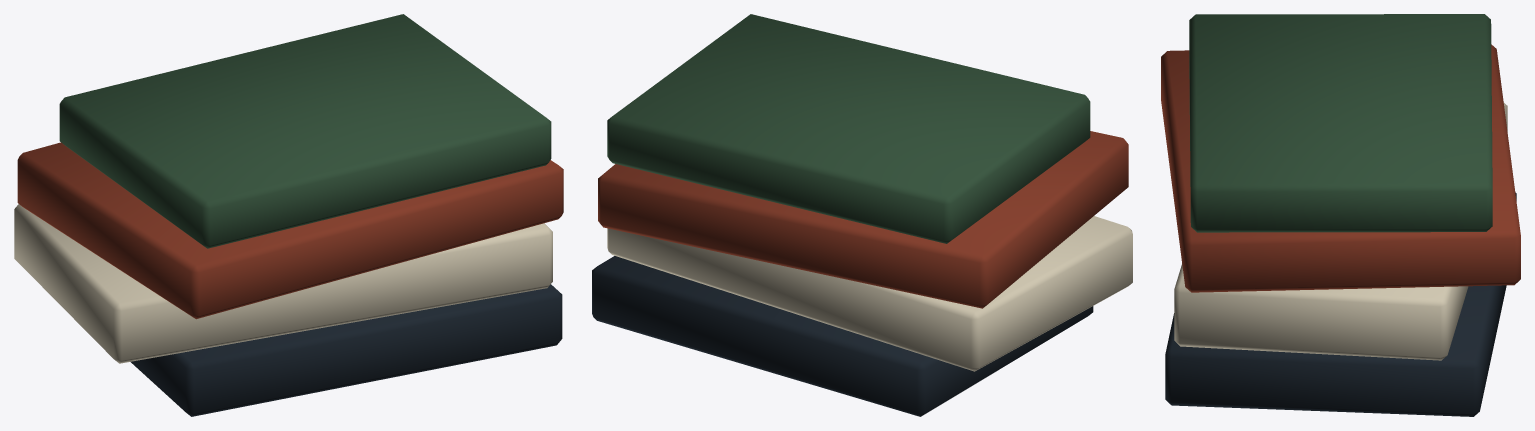
The model's file is SM_MB_BookStack.fbx.
3 views of the same model, side by side, from view 1: azimuth 30°, elevation 25°; view 2: azimuth 150°, elevation 25°; view 3: azimuth 270°, elevation 25° (orthographic). The views are drawn at different scales.
Visible parts, largest first — view 1: SM_MB_BookStack; view 2: SM_MB_BookStack; view 3: SM_MB_BookStack.
Boxes of the visible parts, x1,y1,x2,y2 form: SM_MB_BookStack: (14,14,563,416); SM_MB_BookStack: (592,14,1132,416); SM_MB_BookStack: (1161,14,1520,416).
Bounding box in the file's own units: 0.2456 × 0.1714 × 0.1171.
